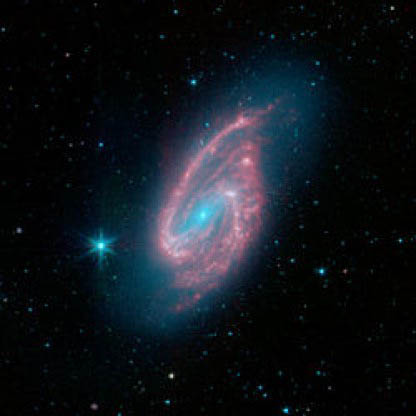Messier 66: (68, 39, 335, 339)
